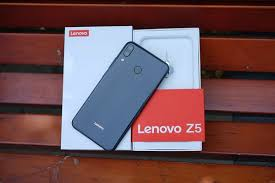lenovo: (70, 39, 169, 153)
